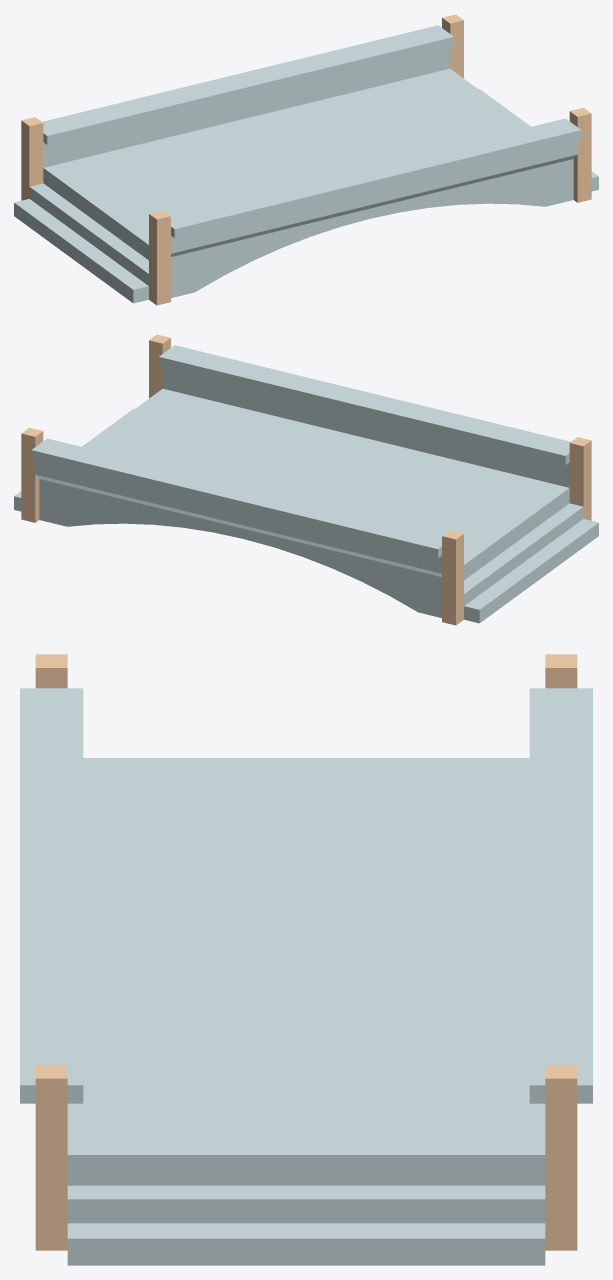
The model's file is bridge_straight.gltf.
The picture shows the model from 3 angles, top to bottom: view 1: azimuth 30°, elevation 25°; view 2: azimuth 150°, elevation 25°; view 3: azimuth 270°, elevation 25°; orthographic projection. The views are drawn at different scales.
Parts seen in each view (by area): view 1: bridge_straight; view 2: bridge_straight; view 3: bridge_straight.
Boxes of the visible parts, <box> form: bridge_straight: <box>14,14,598,305</box>; bridge_straight: <box>14,334,598,625</box>; bridge_straight: <box>20,654,592,1265</box>.
Bounding box in the file's own units: 0.9495 × 0.1676 × 0.5062.
